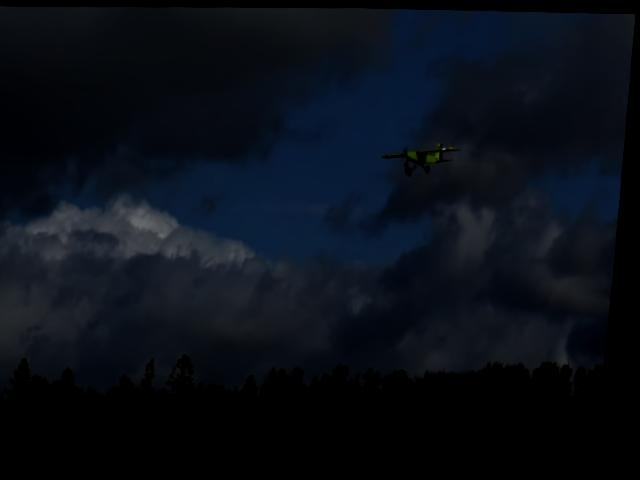plane: (383, 140, 466, 175)
